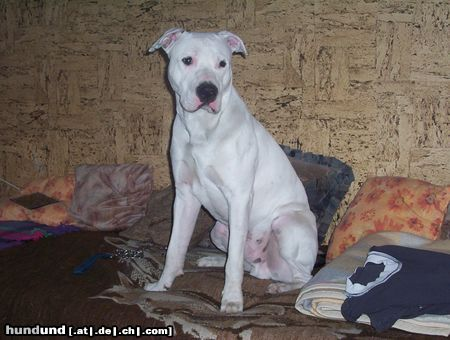dogo_argentino: (141, 26, 318, 314)
